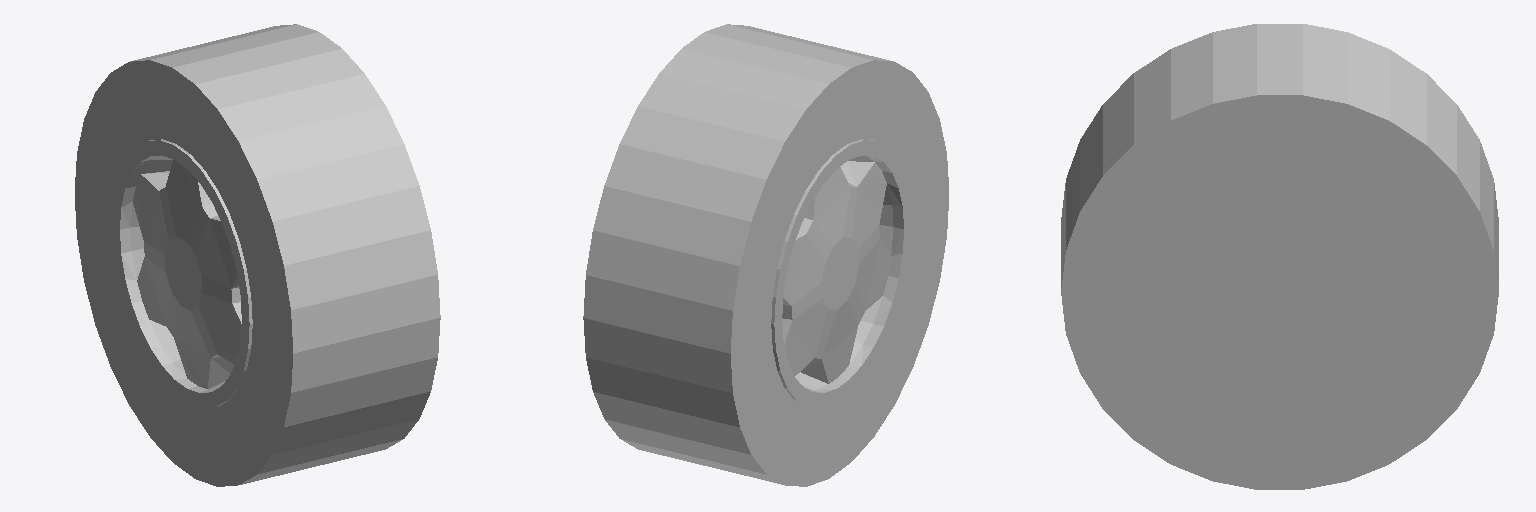
File: llanta.obj
3 renders of one model, left to right at view 1: azimuth 30°, elevation 25°; view 2: azimuth 150°, elevation 25°; view 3: azimuth 270°, elevation 25°, orthographic.
Visible parts, largest first — view 1: wheel_fr_Circle_050; view 2: wheel_fr_Circle_050; view 3: wheel_fr_Circle_050.
Part boxes in pixels (x1,y1,x2,y2): wheel_fr_Circle_050: (75,24,440,486); wheel_fr_Circle_050: (583,24,948,486); wheel_fr_Circle_050: (1061,24,1498,489).
Bounding box in the file's own units: 0.2576 × 0.6462 × 0.6498.